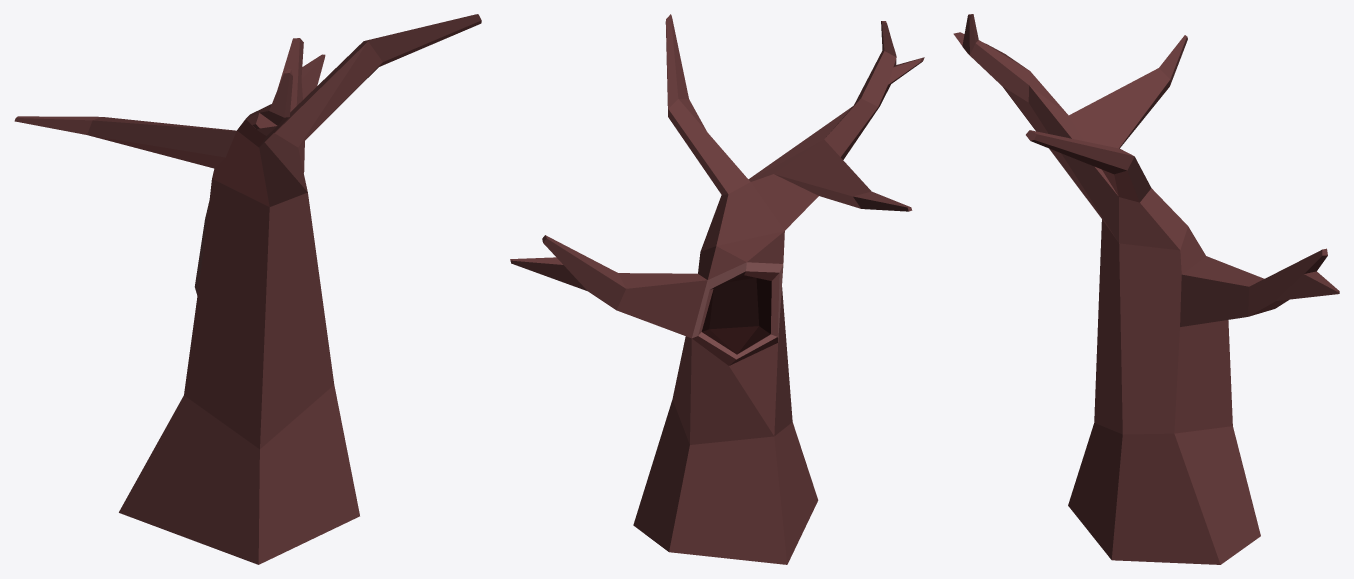
The model's file is TreeAutumn9_Alt1.fbx.
3 views of the same model, side by side, from view 1: azimuth 30°, elevation 25°; view 2: azimuth 150°, elevation 25°; view 3: azimuth 270°, elevation 25° (orthographic). The views are drawn at different scales.
Visible parts, largest first — view 1: TreeAutumn9_Alt1; view 2: TreeAutumn9_Alt1; view 3: TreeAutumn9_Alt1.
Boxes of the visible parts, bbox=[...] form: TreeAutumn9_Alt1: bbox=[14, 14, 481, 564]; TreeAutumn9_Alt1: bbox=[510, 14, 924, 564]; TreeAutumn9_Alt1: bbox=[953, 14, 1339, 564].
Size of the model in its own units: 1.2 by 1.57 by 1.14.
